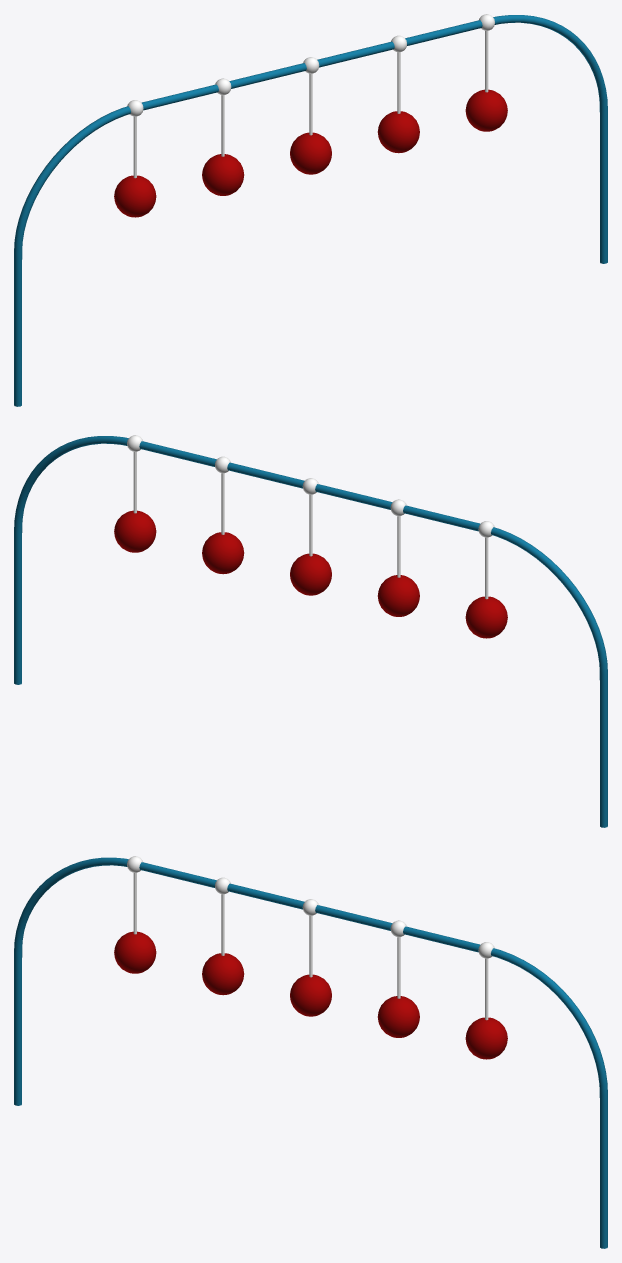
The model's file is Wreckage.fbx.
3 renders of one model, top to bottom at view 1: azimuth 30°, elevation 25°; view 2: azimuth 150°, elevation 25°; view 3: azimuth 330°, elevation 25°, orthographic.
Parts seen in each view (by area): view 1: Wreckage, WreckingBall, WreckingBall003, WreckingBall004, WreckingBall002, WreckingBall001; view 2: Wreckage, WreckingBall, WreckingBall003, WreckingBall004, WreckingBall002, WreckingBall001; view 3: Wreckage, WreckingBall, WreckingBall004, WreckingBall003, WreckingBall001, WreckingBall002.
Part boxes in pixels (x1,y1,x2,y2): Wreckage: (14,15,607,406); WreckingBall: (290,132,331,174); WreckingBall003: (114,175,156,217); WreckingBall004: (465,89,507,131); WreckingBall002: (377,111,419,153); WreckingBall001: (202,154,244,195); Wreckage: (14,436,607,827); WreckingBall: (290,553,331,595); WreckingBall003: (465,596,507,638); WreckingBall004: (114,510,156,552); WreckingBall002: (202,532,244,574); WreckingBall001: (377,575,419,616); Wreckage: (14,857,607,1248); WreckingBall: (290,974,331,1016); WreckingBall004: (465,1017,507,1059); WreckingBall003: (114,931,156,973); WreckingBall001: (202,953,244,995); WreckingBall002: (377,996,419,1037).
Size of the model in its own units: 40.5 by 18 by 2.5.
